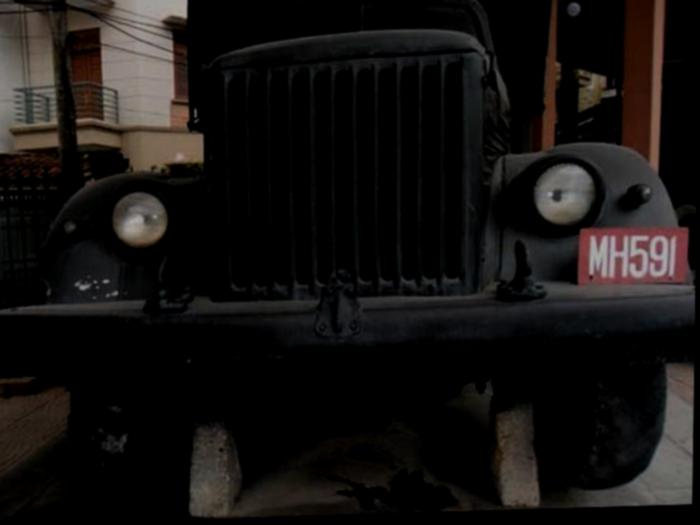License_Plate: (577, 225, 689, 290)
